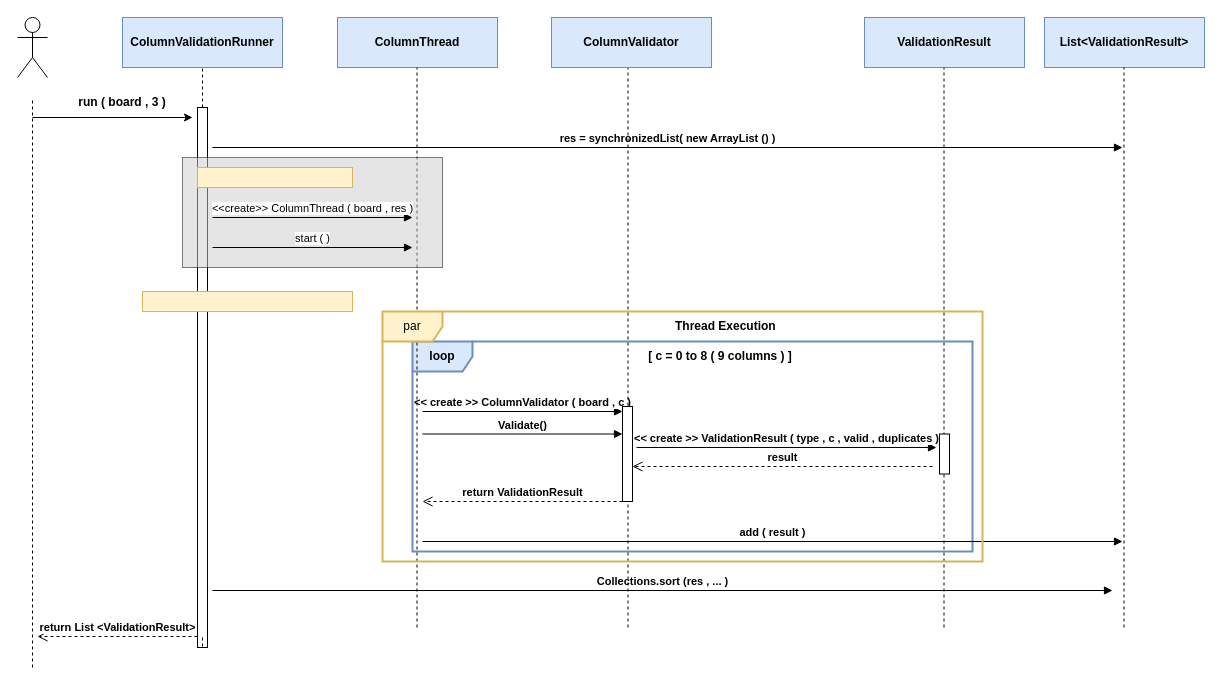
This 1222x686 diagram has some shape labels left out. Each missing label, with the centre of its shape:
Actor: point (32, 47)
create 1 thread ( mode 3 ): point (274, 177)
wait for thread to join () ( finish ): point (247, 301)
